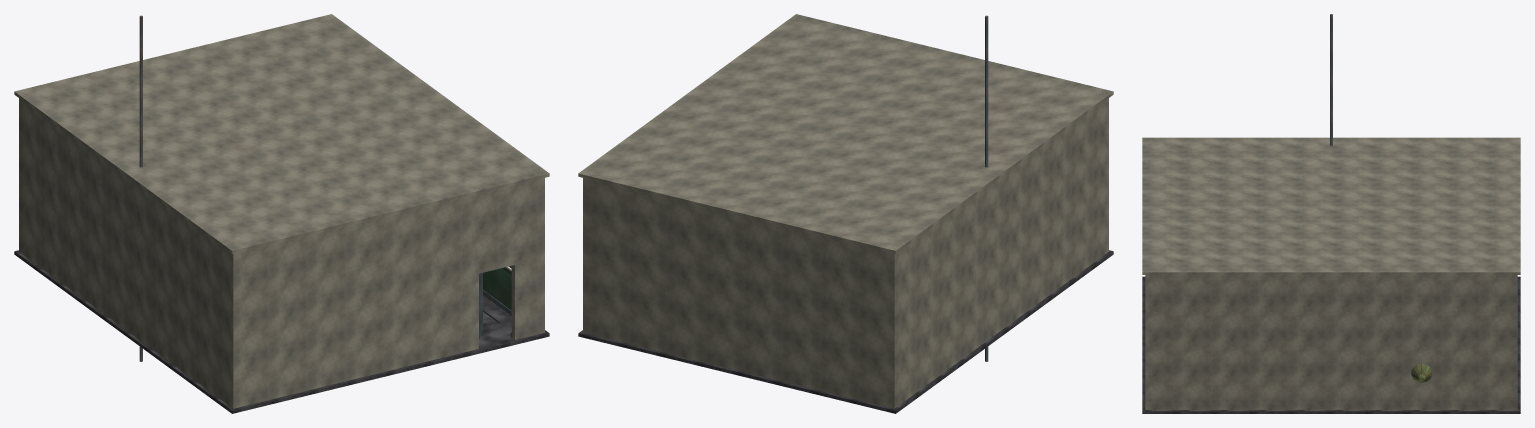
The model's file is laboratorio.glb.
3 views of the same model, side by side, from view 1: azimuth 30°, elevation 25°; view 2: azimuth 150°, elevation 25°; view 3: azimuth 270°, elevation 25° (orthographic). The views are drawn at different scales.
Visible parts, largest first — view 1: plaster-col, concrete-col, paint_green, metal; view 2: plaster-col, concrete-col, metal; view 3: plaster-col, concrete-col, metal.
Part boxes in pixels (box(x1,y1,x2,y2)): plaster-col: box(14, 14, 549, 408); concrete-col: box(14, 250, 549, 413); paint_green: box(483, 267, 511, 310); metal: box(139, 15, 511, 361); plaster-col: box(578, 14, 1113, 408); concrete-col: box(578, 250, 1113, 413); metal: box(985, 15, 988, 361); plaster-col: box(1142, 137, 1520, 409); concrete-col: box(1142, 276, 1520, 413); metal: box(1330, 14, 1332, 145).
Size of the model in its own units: 11 by 11 by 12.6.
Materials: 72 (18 with a texture image).
